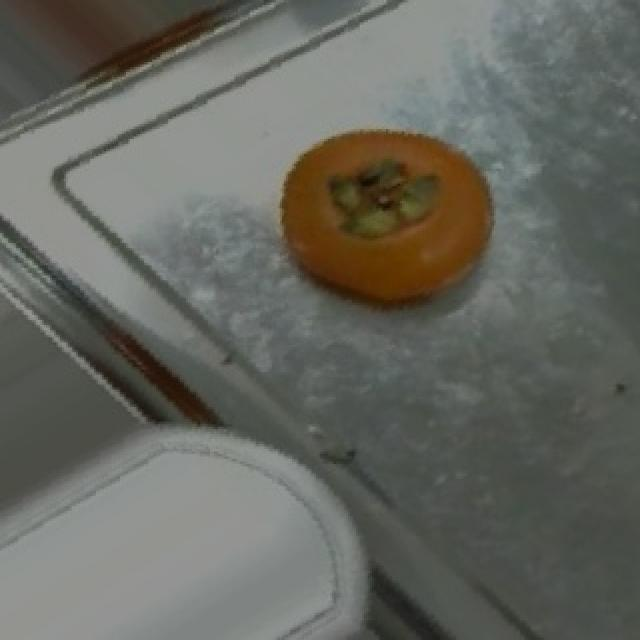Fruit: (254, 97, 520, 327)
